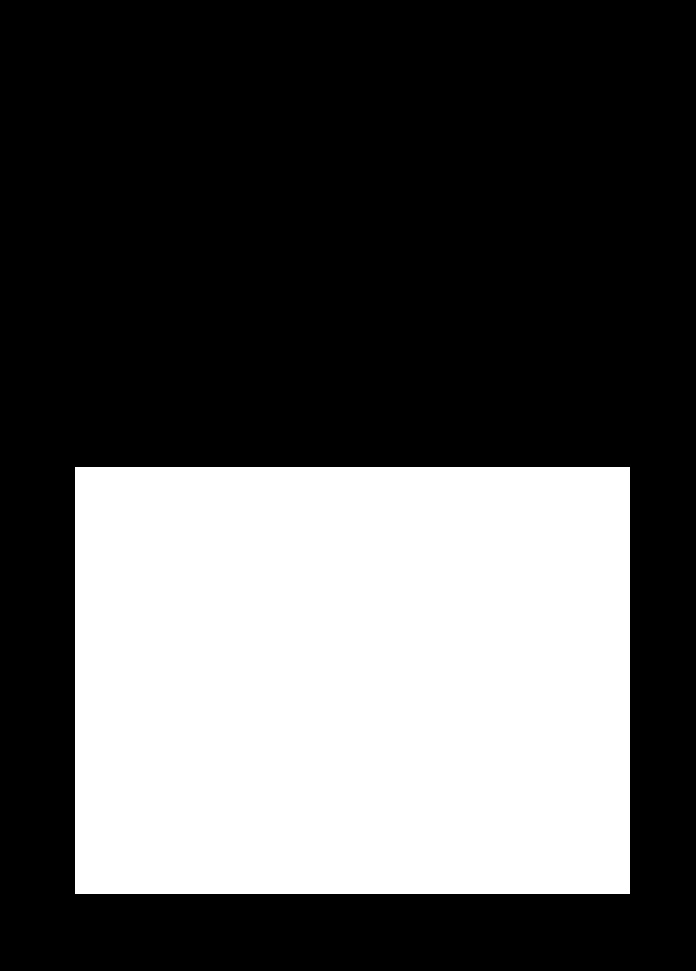table: (75, 467, 629, 893)
